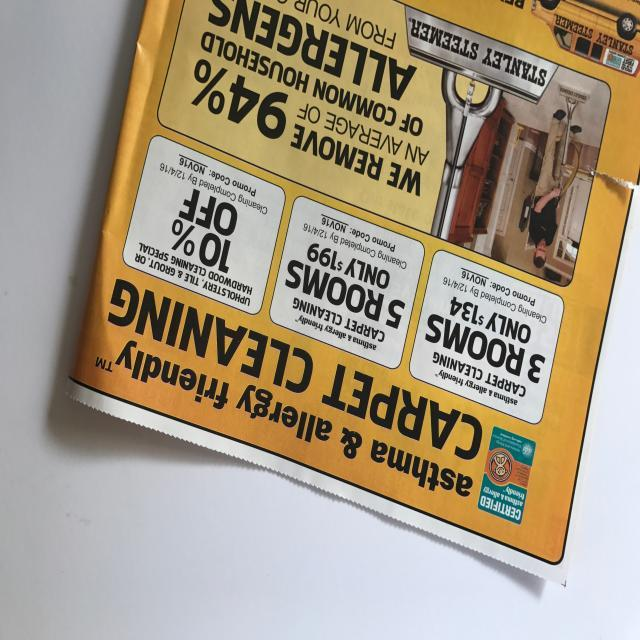paper: (66, 2, 640, 602)
